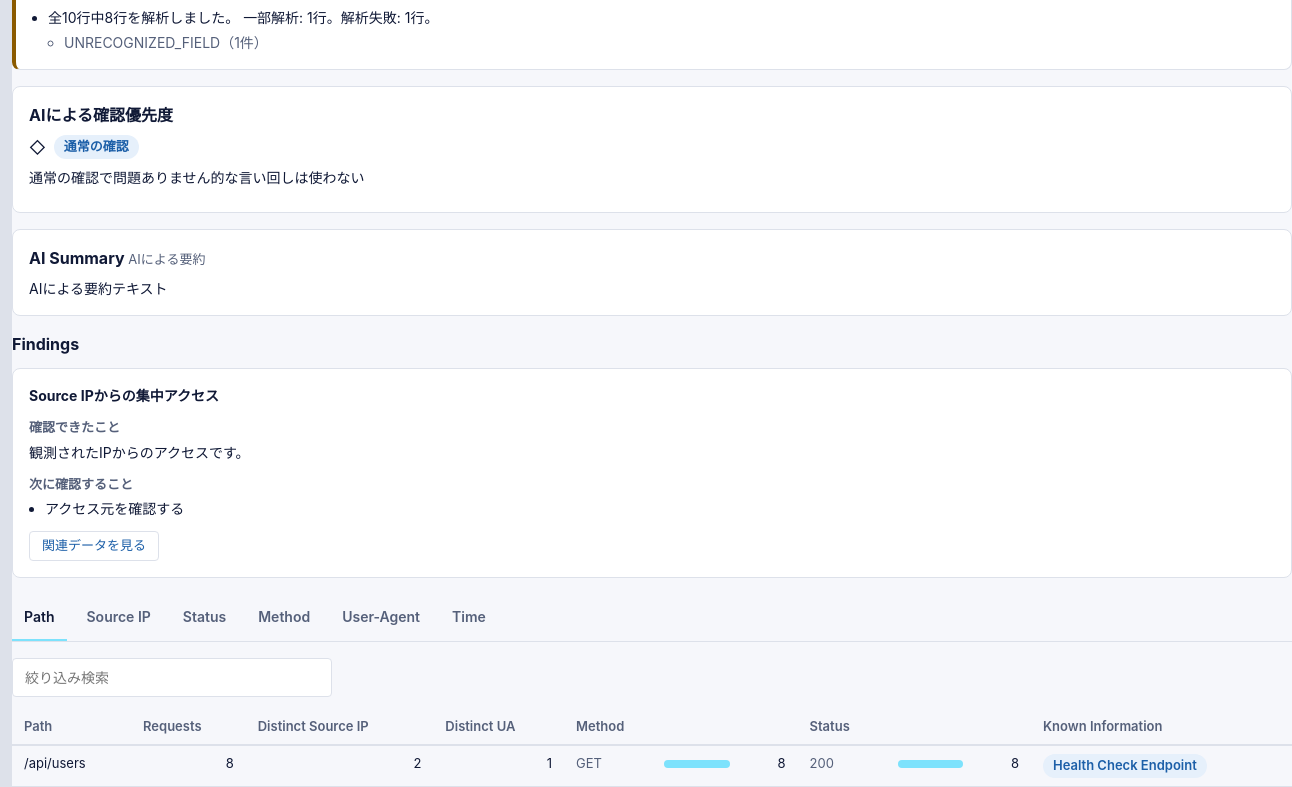
Test case: AnalysisResultPage › an AI Finding evidence link switches to the referenced Aggregation tab and prefills the search (md/44 §72-73)
(page scrolled)
Step 1. Click the button with class "finding-card__reference" → x=94, y=546, box x1=29 y1=531 x2=159 y2=560
(page scrolled)
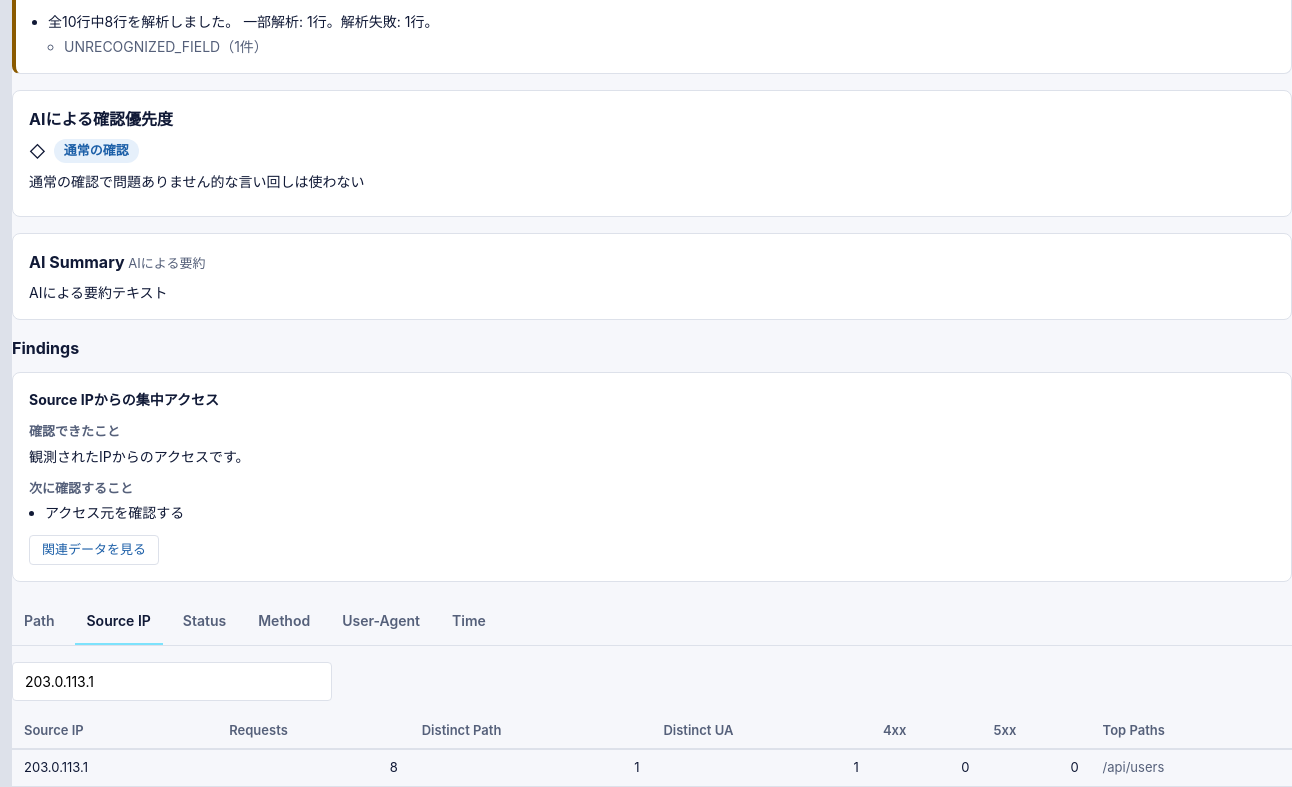
Expected: the search field with class "analysis-result-page__search" holds "203.0.113.1", x1=12 y1=662 x2=332 y2=700
Expected: the text "203.0.113.1" is shown, x1=12 y1=749 x2=217 y2=786
